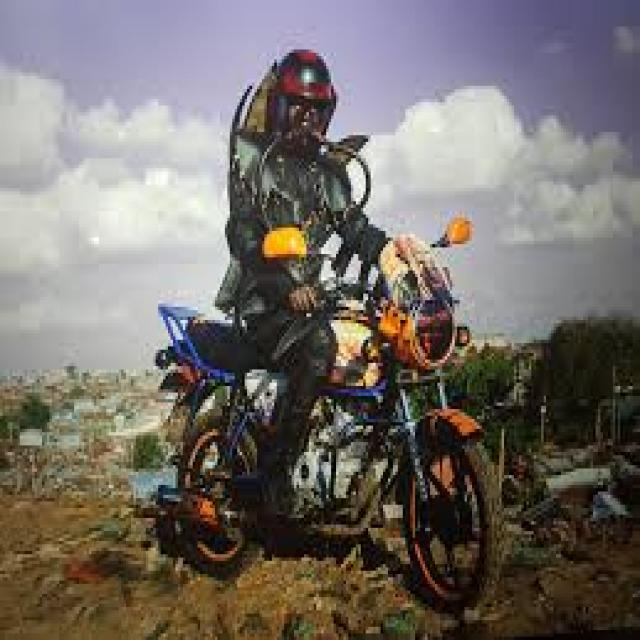bodaboda: (90, 151, 523, 639)
